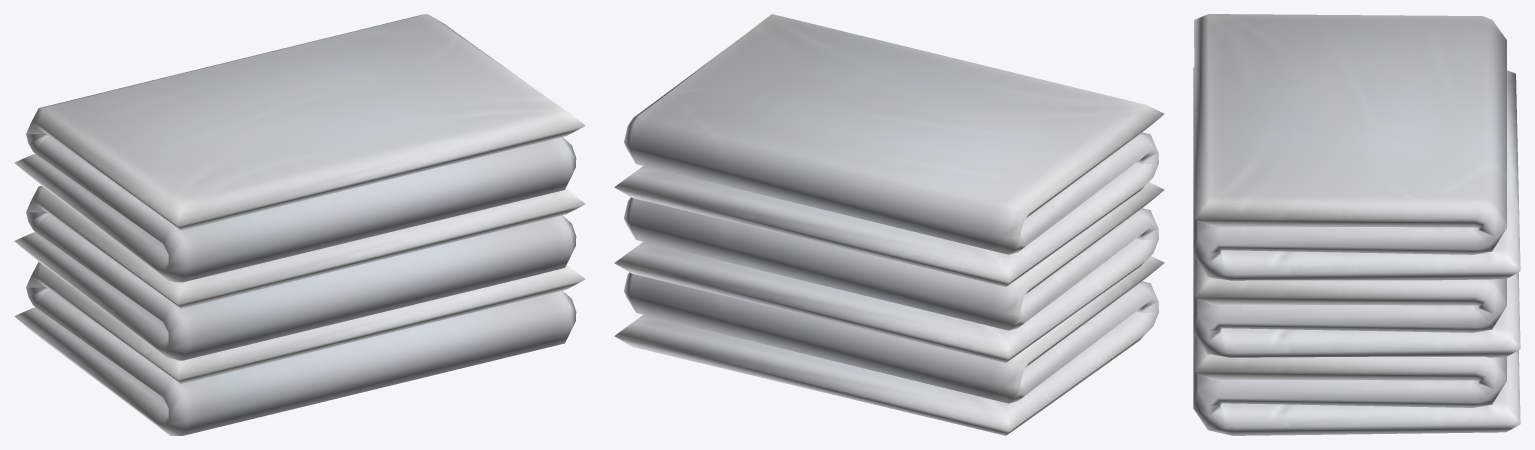
Rendered from jov_fton01a2.fbx.
3 views of the same model, side by side, from view 1: azimuth 30°, elevation 25°; view 2: azimuth 150°, elevation 25°; view 3: azimuth 270°, elevation 25° (orthographic). The views are drawn at different scales.
Parts seen in each view (by area): view 1: jov_fton01a2; view 2: jov_fton01a2; view 3: jov_fton01a2.
Boxes of the visible parts, bbox=[...] form: jov_fton01a2: bbox=[14, 14, 585, 435]; jov_fton01a2: bbox=[614, 14, 1164, 435]; jov_fton01a2: bbox=[1193, 14, 1520, 435].
Size of the model in its own units: 123 by 67.79 by 85.23.
